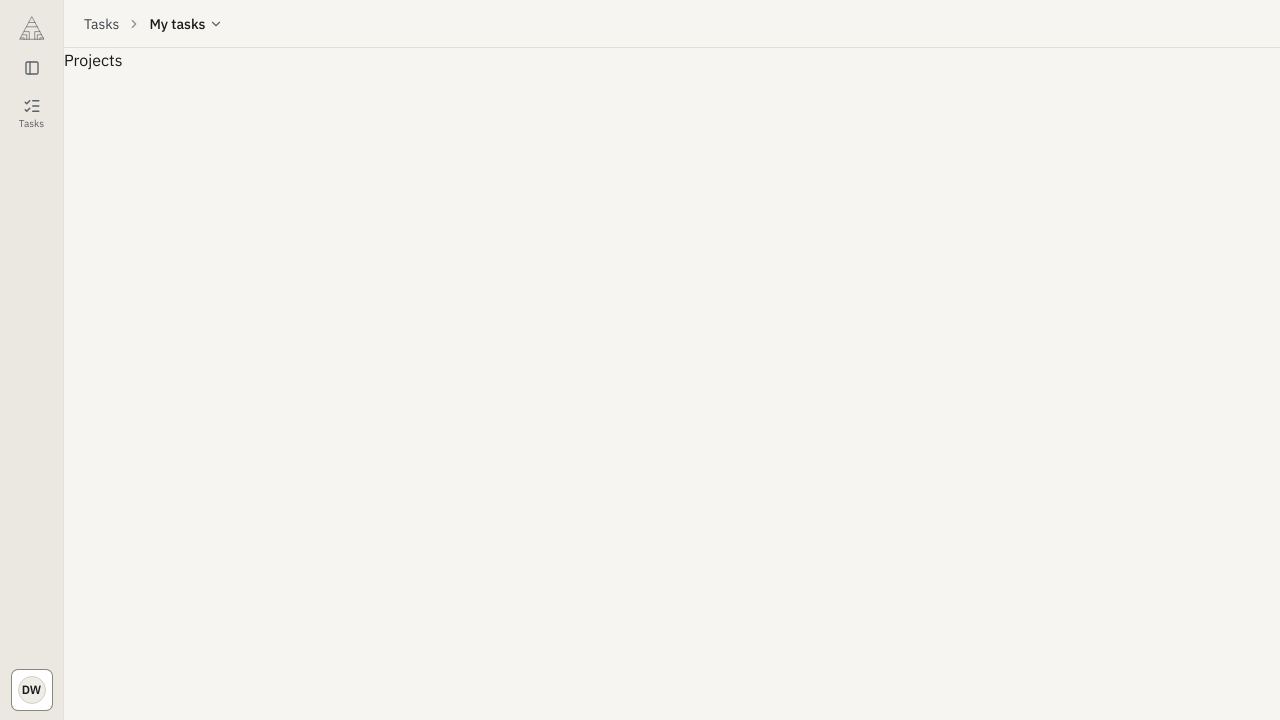
Test: toggles the drawer from the rail and remembers the choice
Click the button named "Show workspace views" at (32, 68), box [14,50,50,86]
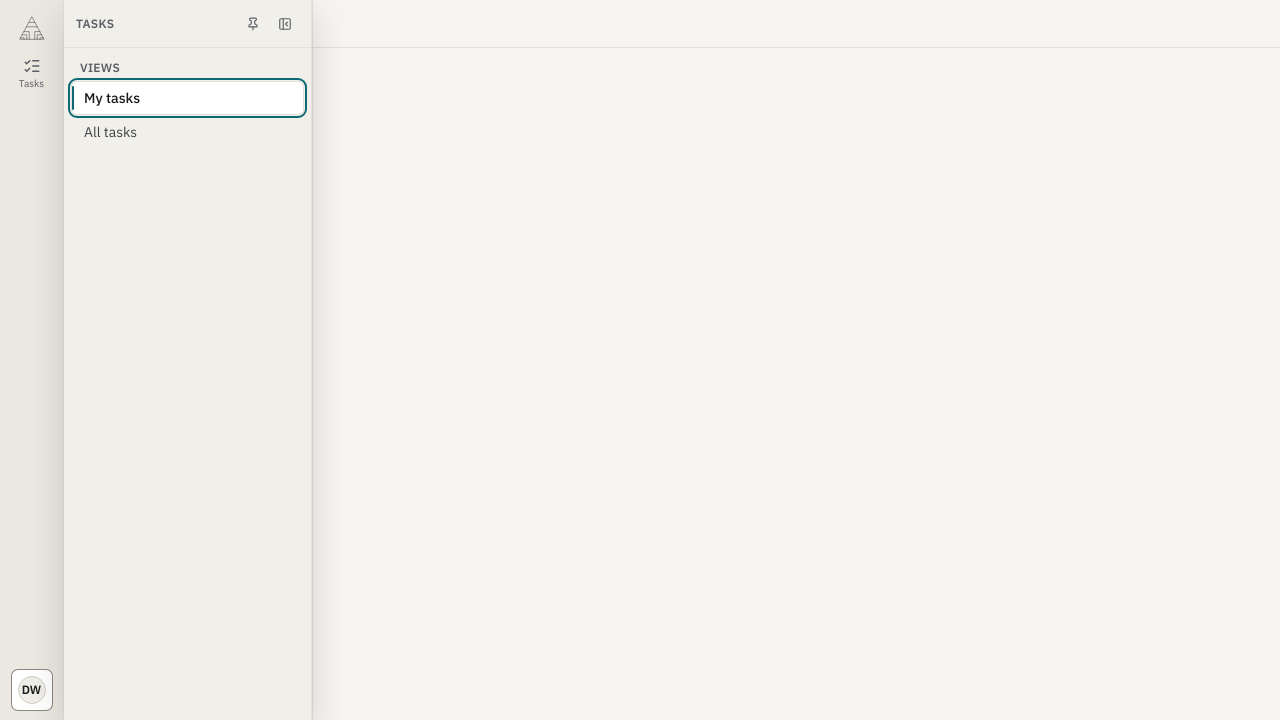
Result: the navigation bar "Tasks views" is shown at [64,48,311,160]
Click the 2nd button named "Collapse workspace views" at (285, 24), box [271,10,299,38]
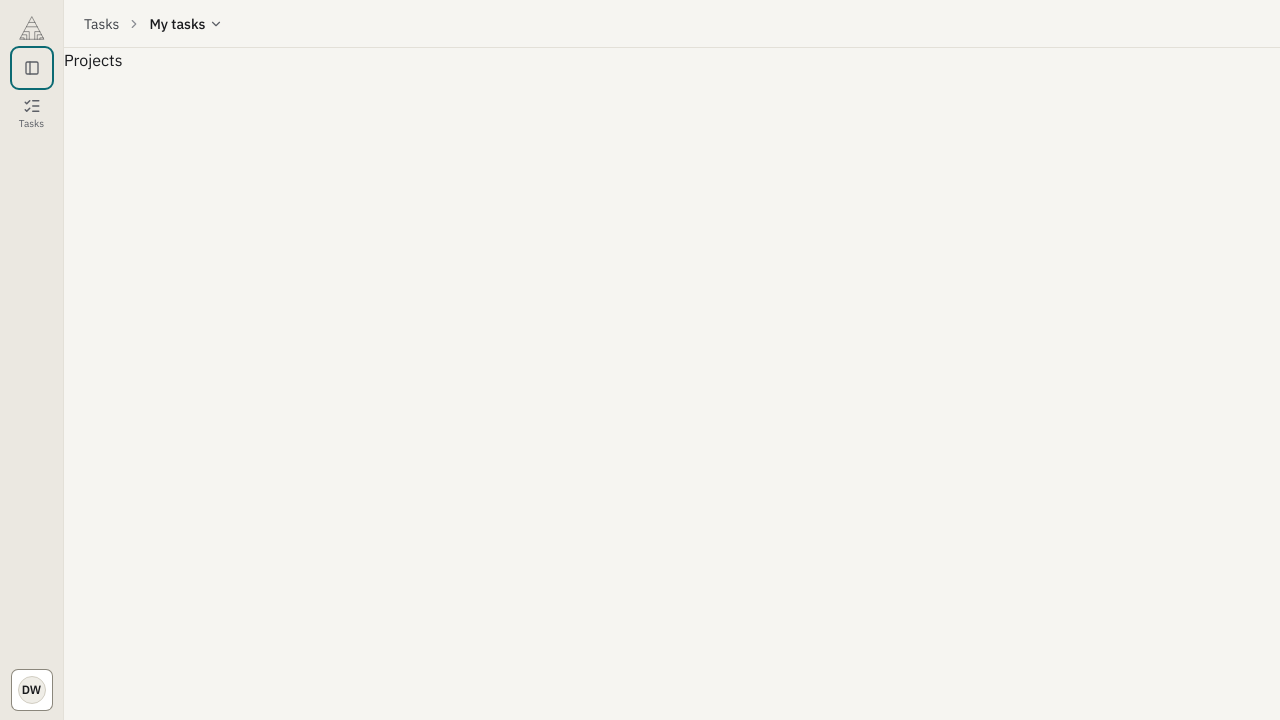
Result: the navigation bar "Tasks Views" is gone
